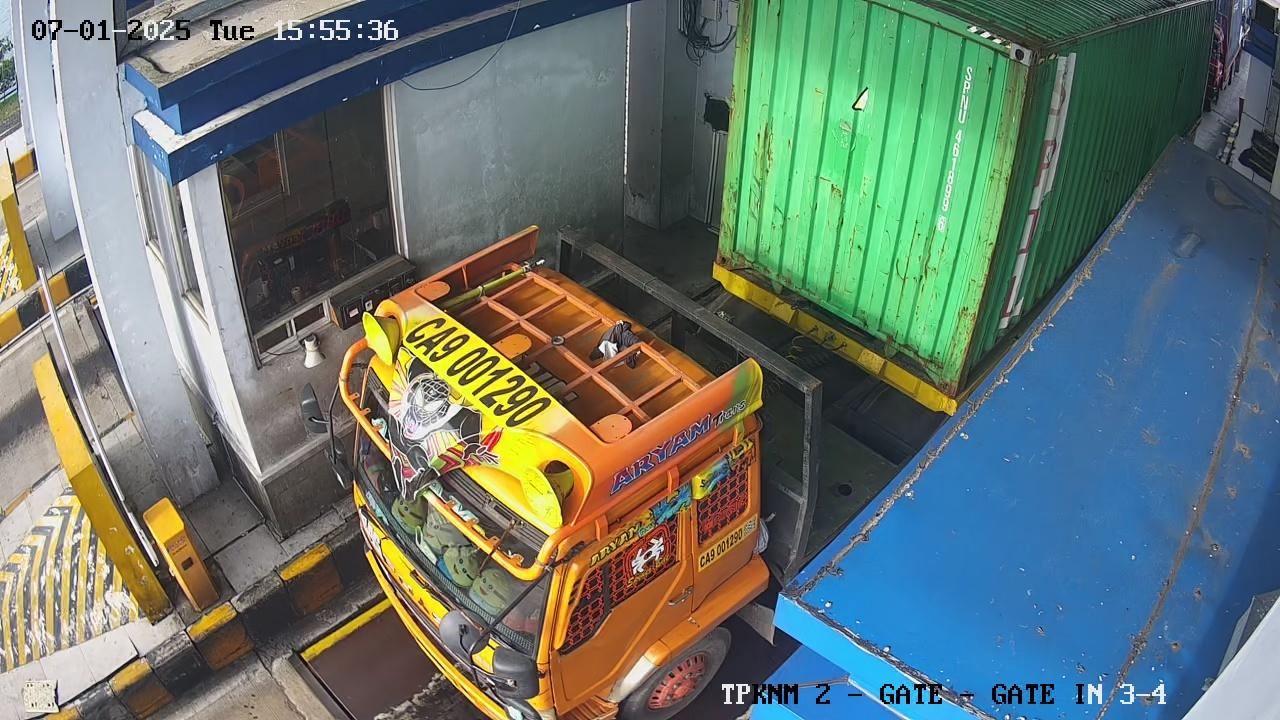Container_ID_Vertikal: (932, 66, 972, 252)
truck_id: (394, 306, 573, 429), (698, 513, 767, 570)
